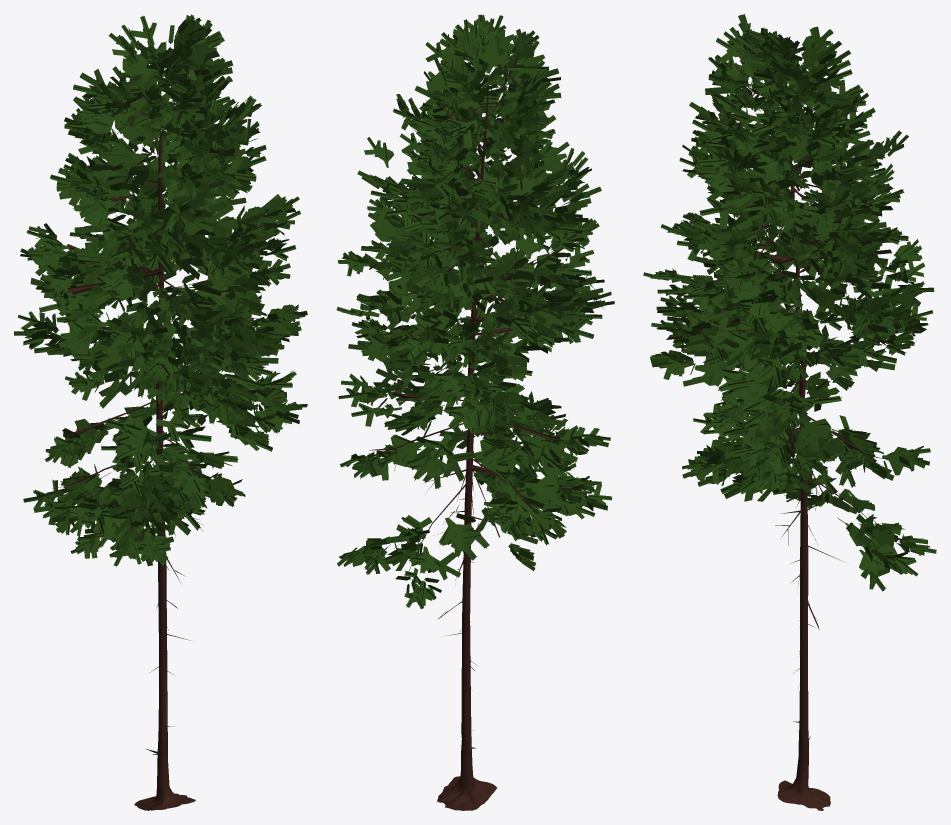
The model's file is fir_a_distant.obj.
The picture shows the model from 3 angles, left to right: view 1: azimuth 30°, elevation 25°; view 2: azimuth 150°, elevation 25°; view 3: azimuth 270°, elevation 25°; orthographic projection. The views are drawn at different scales.
Visible parts, largest first — view 1: fir_a_distant; view 2: fir_a_distant; view 3: fir_a_distant.
Part boxes in pixels (left/top/right/bottom): fir_a_distant: left=14, top=14, right=307, bottom=810; fir_a_distant: left=336, top=14, right=614, bottom=810; fir_a_distant: left=643, top=14, right=936, bottom=810.
Bounding box in the file's own units: 259 × 746 × 255.
